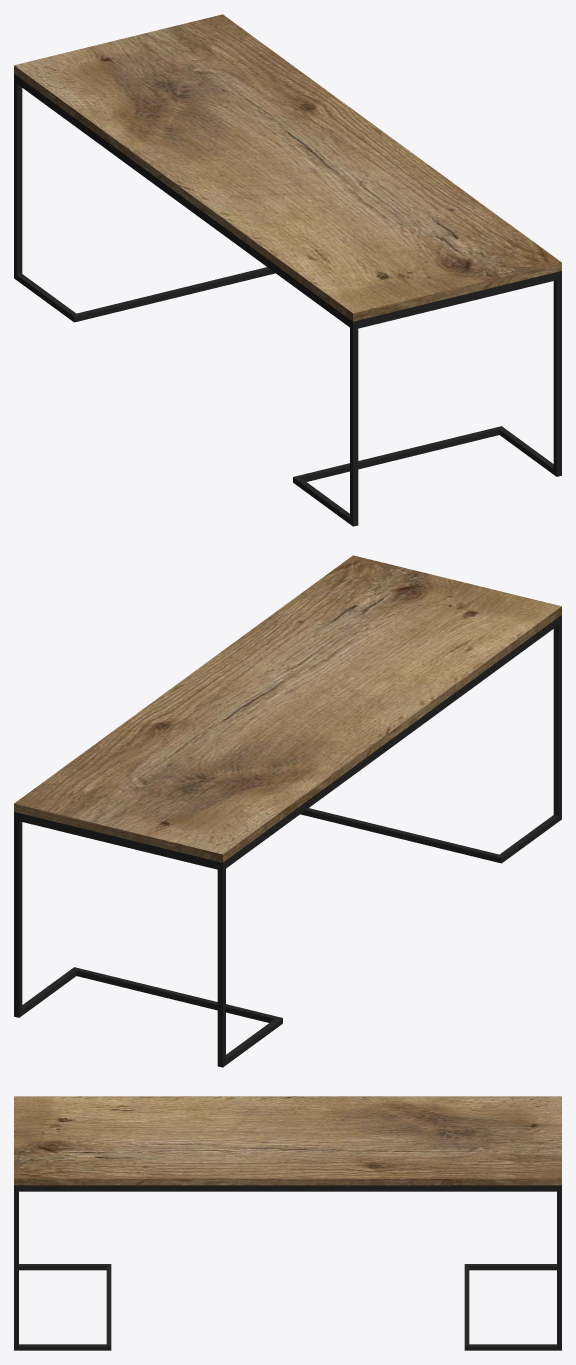
File: DiningTable1.obj
3 views of the same model, one above another, from view 1: azimuth 30°, elevation 25°; view 2: azimuth 150°, elevation 25°; view 3: azimuth 270°, elevation 25° (orthographic). The views are drawn at different scales.
Parts seen in each view (by area): view 1: Mesh2 Group3 Group1 Model, Mesh3 Group4 Group1 Model, Mesh1 Group2 Group1 Model, Mesh4 Group5 Group1 Model, Mesh7 ___1_2 Group1 Model; view 2: Mesh2 Group3 Group1 Model, Mesh1 Group2 Group1 Model, Mesh3 Group4 Group1 Model, Mesh4 Group5 Group1 Model, Mesh6 ___1_1 Group1 Model; view 3: Mesh2 Group3 Group1 Model, Mesh5 Group6 Group1 Model, Mesh1 Group2 Group1 Model, Mesh3 Group4 Group1 Model.
Boxes of the visible parts, x1,y1,x2,y2 form: Mesh2 Group3 Group1 Model: (14,14,561,321); Mesh3 Group4 Group1 Model: (293,271,561,526); Mesh1 Group2 Group1 Model: (14,74,275,322); Mesh4 Group5 Group1 Model: (17,76,349,327); Mesh7 ___1_2 Group1 Model: (358,272,556,328); Mesh2 Group3 Group1 Model: (14,555,561,862); Mesh1 Group2 Group1 Model: (14,812,282,1067); Mesh3 Group4 Group1 Model: (300,615,561,863); Mesh4 Group5 Group1 Model: (226,617,558,868); Mesh6 ___1_1 Group1 Model: (19,813,217,869); Mesh2 Group3 Group1 Model: (14,1096,561,1185); Mesh5 Group6 Group1 Model: (19,1185,556,1191); Mesh1 Group2 Group1 Model: (464,1185,561,1350); Mesh3 Group4 Group1 Model: (14,1185,111,1350).
Bounding box in the file's own units: 800 × 780 × 2250.
2 materials, 1 textured.
